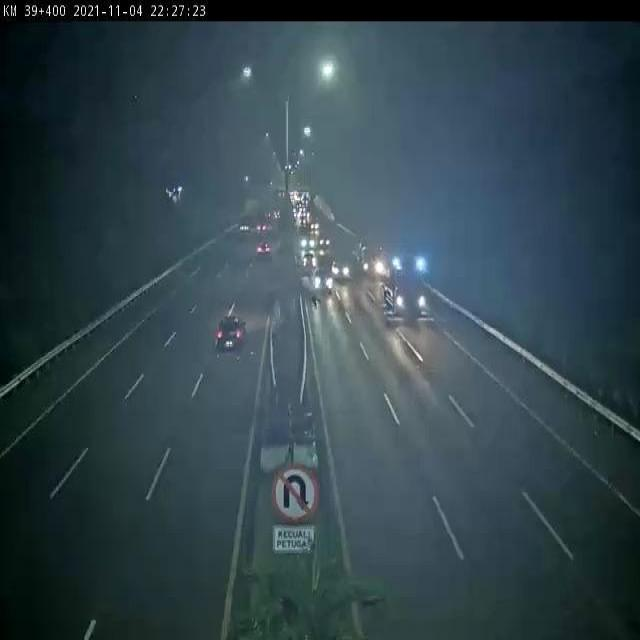car: (216, 313, 246, 352), (314, 269, 333, 296), (331, 259, 350, 281)
mid truck: (302, 252, 317, 269)
truck-l-: (382, 248, 429, 321)
truck-xl-: (354, 239, 384, 276)
